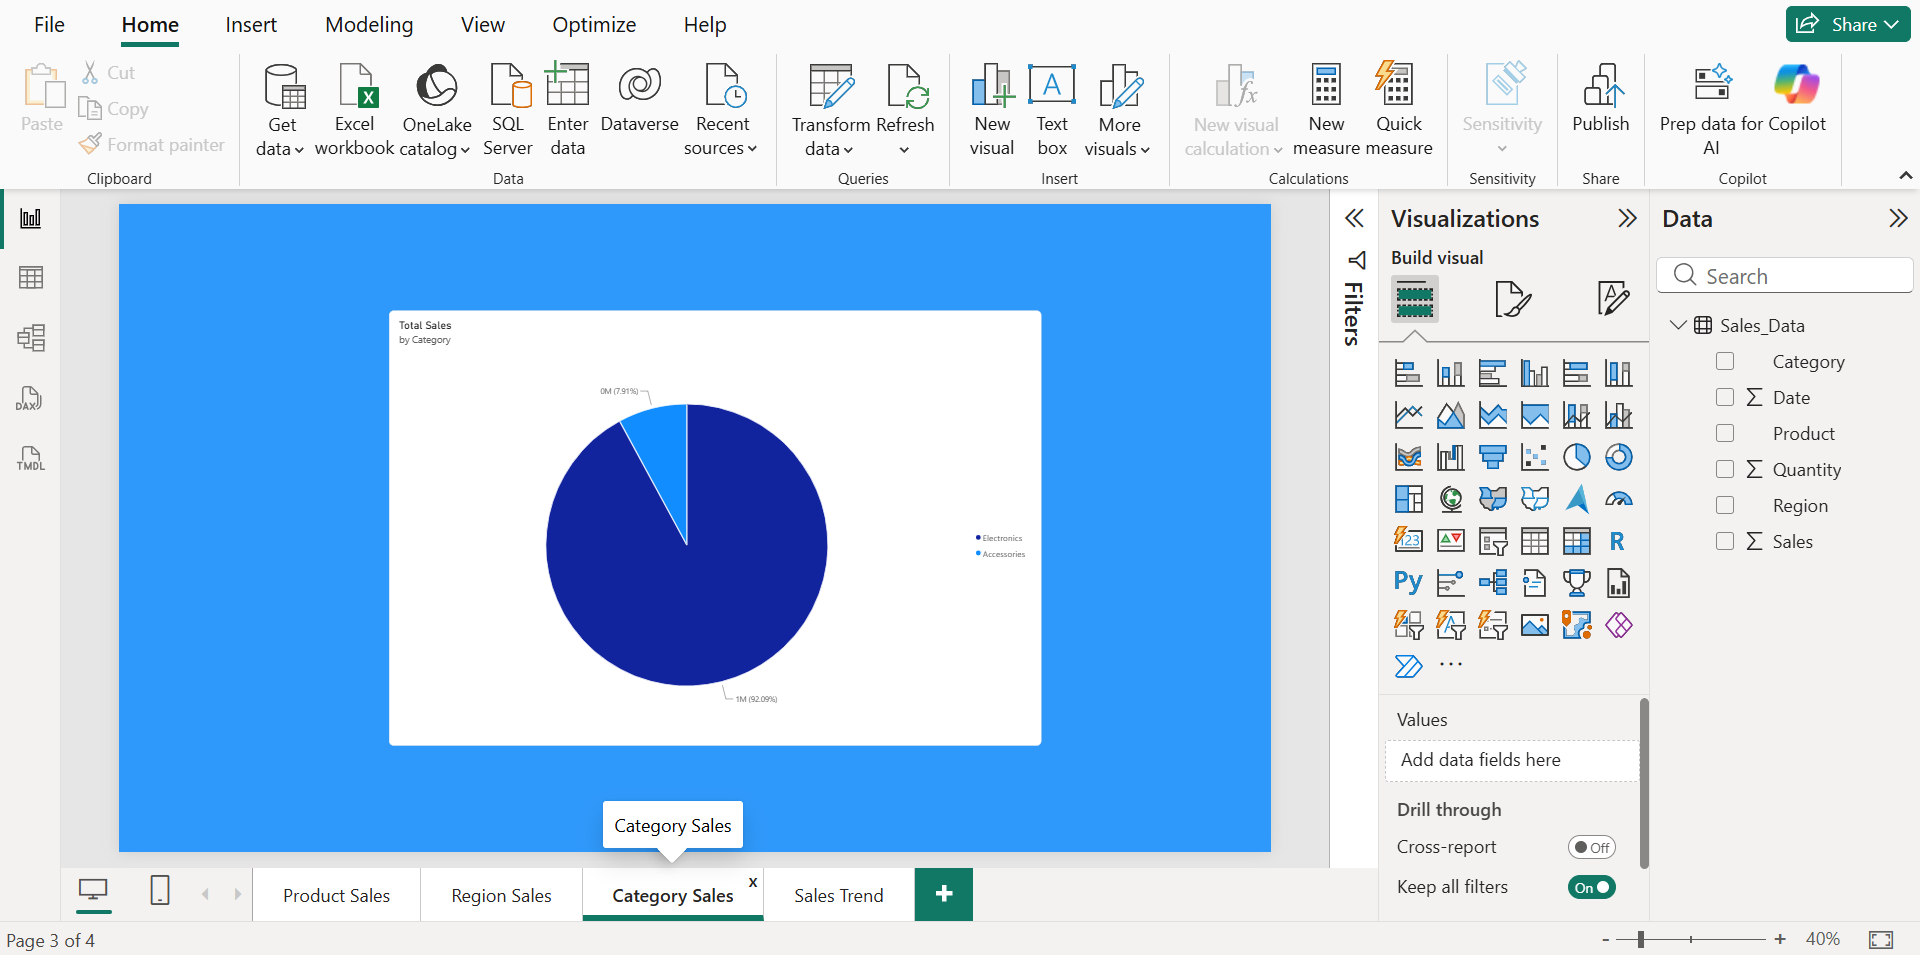

What the dashboard file says about the page in this screenshot:
{"tool":"powerbi","page":{"name":"Category Sales","canvas":[1920,1080],"ordinal":2},"visuals":[{"type":"pieChart","fields":{"Category":["Sales_Data.Category"],"Y":["Sum(Sales_Data.Sales)"]},"box":[450,177.5,1087.5,725],"z":0}]}

Visuals, with their boxes on the page's 1920x1080 design canvas (x1, y1, x2, y2). These are canvas units, not pixel positions in the 1920x955 screenshot, which may show the page scaled, cropped or inside an application window:
pieChart - Sales_Data.Category x Sum(Sales_Data.Sales): pyautogui.locateOnScreen(450, 178, 1538, 902)
